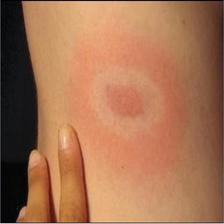Tick: (94, 66, 161, 131)
